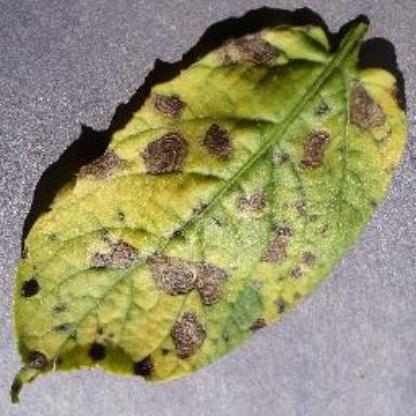Early-Blight: (14, 25, 410, 389)
